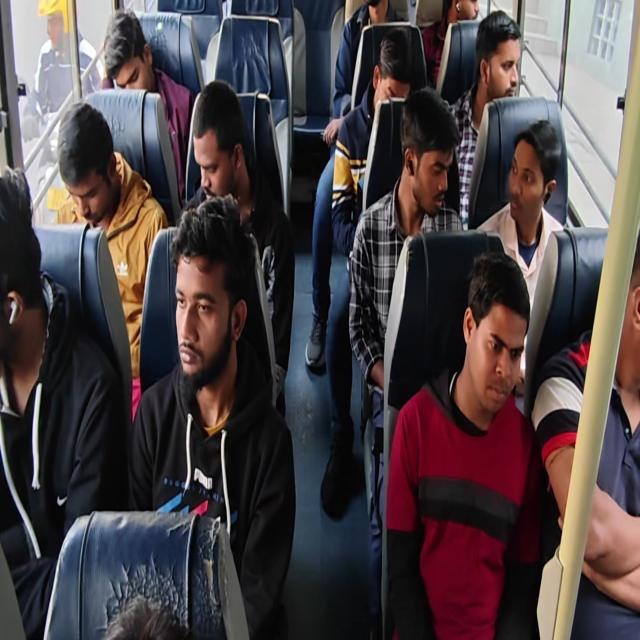person: (1, 1, 638, 638), (128, 193, 296, 638), (347, 85, 465, 637), (385, 250, 544, 638), (0, 164, 125, 637), (319, 27, 415, 519), (531, 226, 639, 638), (180, 79, 295, 416), (56, 101, 169, 421), (475, 118, 564, 401), (330, 28, 414, 256), (102, 9, 194, 206), (445, 10, 522, 227), (325, 0, 409, 144), (23, 0, 102, 137), (421, 0, 479, 89), (102, 593, 192, 639)
